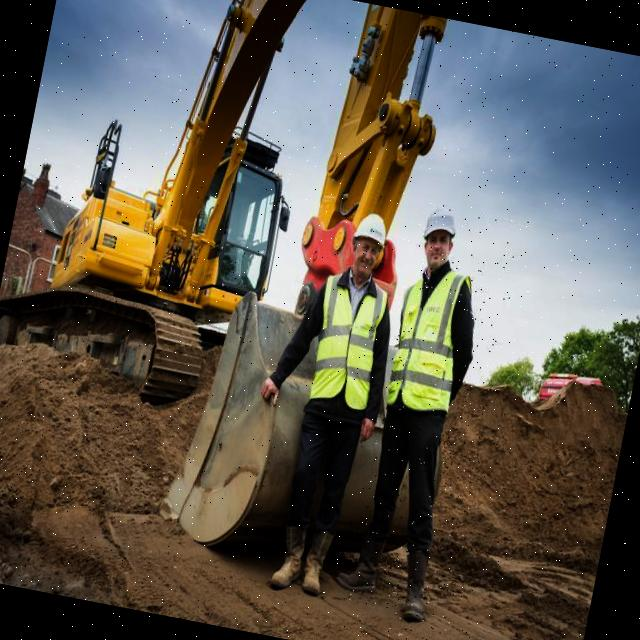boots: (328, 522, 393, 604), (389, 539, 447, 630), (264, 516, 316, 596), (294, 512, 337, 605)
helmet: (342, 206, 400, 256), (415, 206, 467, 246)
vest: (377, 256, 482, 427), (291, 266, 399, 416)
